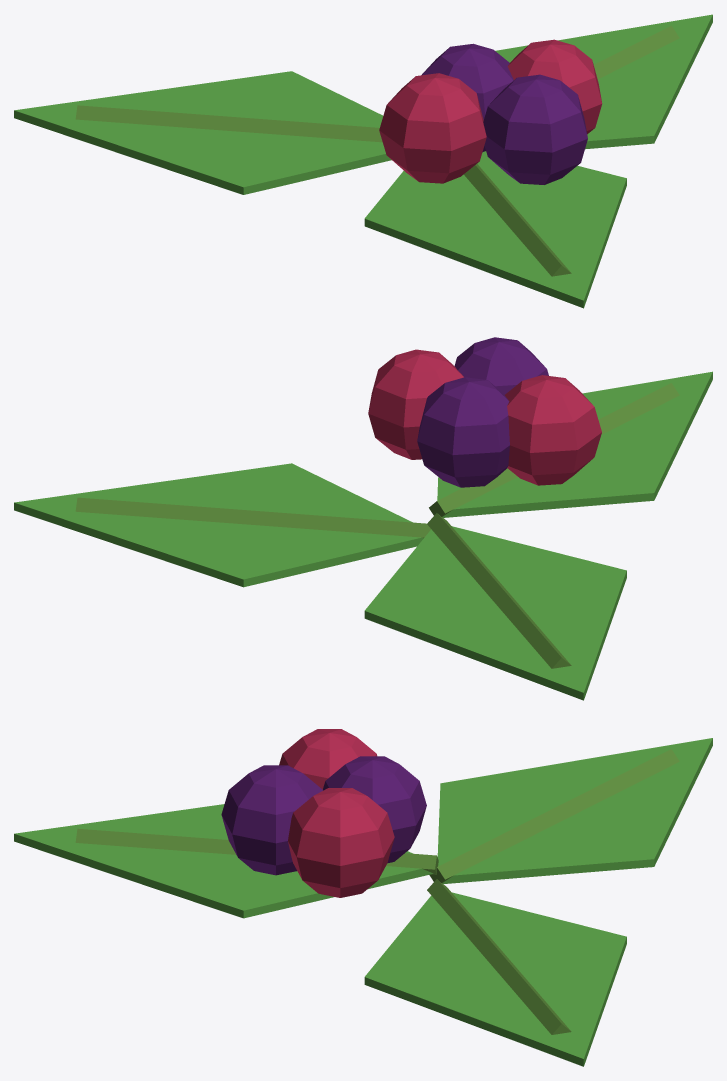
Rendered from mulberry-leaf.glb.
3 renders of one model, top to bottom at view 1: azimuth 30°, elevation 25°; view 2: azimuth 150°, elevation 25°; view 3: azimuth 270°, elevation 25°, orthographic.
Visible parts, largest first — view 1: mulberry-leaf; view 2: mulberry-leaf; view 3: mulberry-leaf.
Part boxes in pixels (bbox=[...]): mulberry-leaf: bbox=[14, 14, 712, 308]; mulberry-leaf: bbox=[14, 337, 712, 700]; mulberry-leaf: bbox=[14, 729, 712, 1066].
Bounding box in the file's own units: 0.3411 × 0.071 × 0.3255.
Materials: 1 (1 with a texture image).
